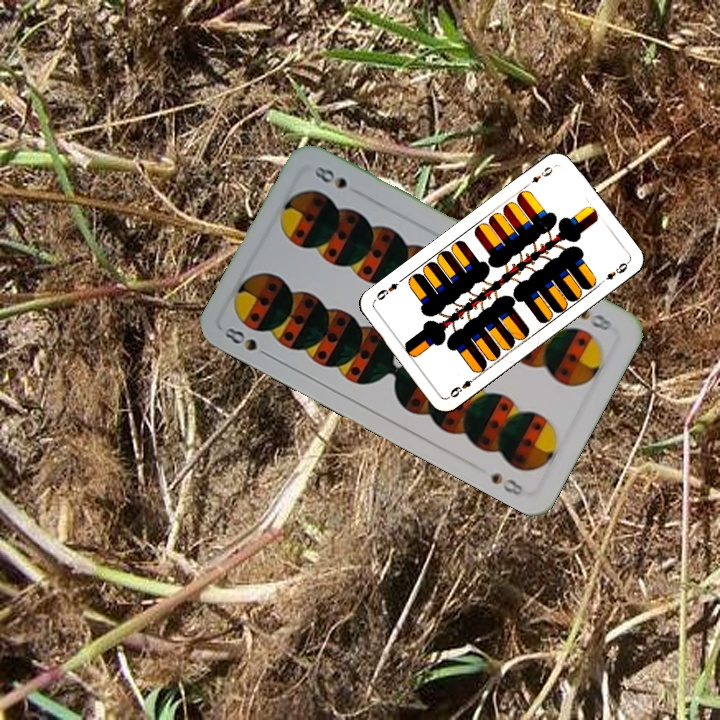E9: (446, 372, 480, 400), (527, 161, 557, 186)
S8: (220, 323, 274, 361), (575, 304, 615, 334)
